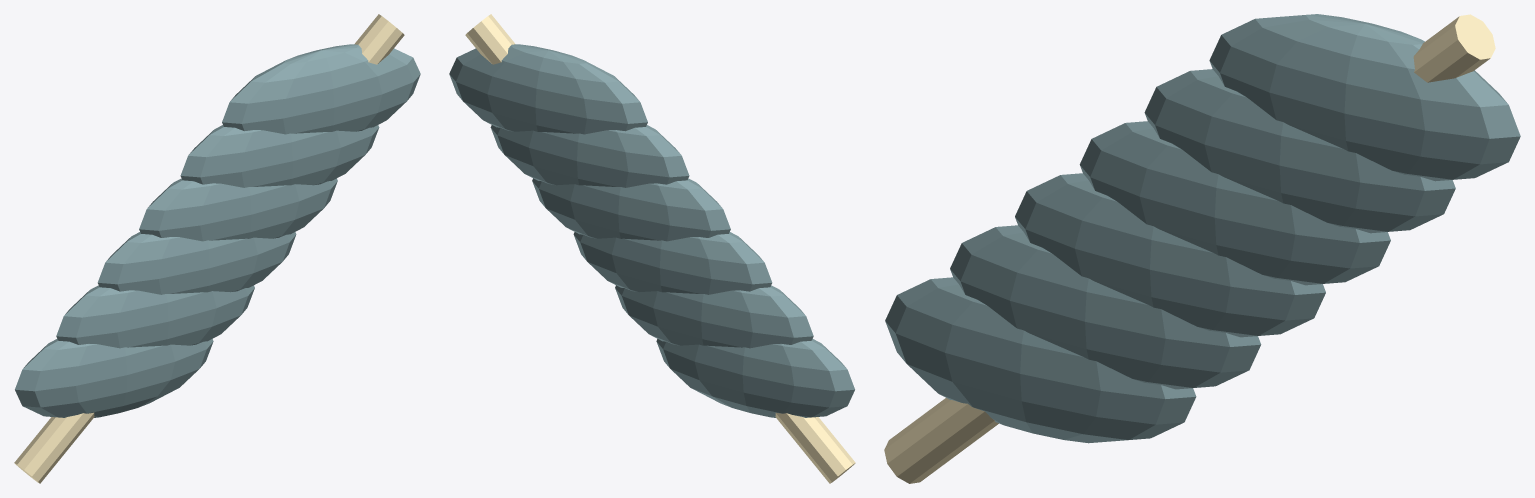
The model's file is feather.glb.
3 views of the same model, side by side, from view 1: azimuth 30°, elevation 25°; view 2: azimuth 150°, elevation 25°; view 3: azimuth 330°, elevation 25° (orthographic). The views are drawn at different scales.
Visible parts, largest first — view 1: Vane.005, Vane, Vane.001, Vane.003, Vane.004, Vane.002, Quill; view 2: Vane.005, Vane, Vane.001, Vane.003, Vane.004, Vane.002, Quill; view 3: Vane.005, Vane, Vane.001, Vane.003, Vane.002, Vane.004, Quill.
Boxes of the visible parts, bbox=[...] form: Vane.005: bbox=[222, 44, 420, 134]; Vane: bbox=[15, 339, 213, 417]; Vane.001: bbox=[56, 285, 254, 348]; Vane.003: bbox=[139, 178, 337, 241]; Vane.004: bbox=[180, 125, 379, 187]; Vane.002: bbox=[97, 232, 296, 294]; Quill: bbox=[14, 14, 404, 483]; Vane.005: bbox=[449, 44, 647, 134]; Vane: bbox=[656, 339, 854, 417]; Vane.001: bbox=[615, 285, 813, 348]; Vane.003: bbox=[532, 178, 730, 241]; Vane.004: bbox=[490, 125, 689, 187]; Vane.002: bbox=[573, 232, 772, 294]; Quill: bbox=[465, 14, 855, 483]; Vane.005: bbox=[1209, 14, 1520, 181]; Vane: bbox=[885, 277, 1196, 443]; Vane.001: bbox=[950, 225, 1261, 389]; Vane.003: bbox=[1079, 121, 1390, 285]; Vane.002: bbox=[1015, 173, 1325, 337]; Vane.004: bbox=[1144, 69, 1455, 233]; Quill: bbox=[884, 14, 1495, 483].
Size of the model in its own units: 0.98 by 0.8809 by 0.11.
